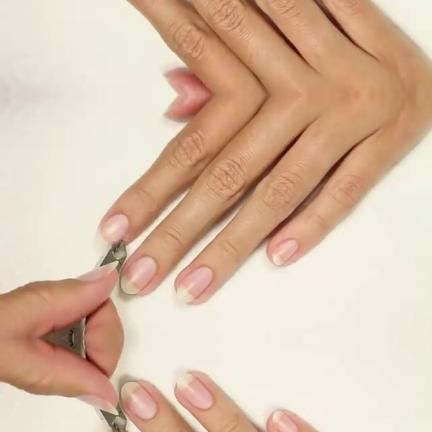Nail: (121, 255, 157, 293), (121, 381, 157, 419), (177, 266, 213, 302), (177, 372, 213, 408), (93, 213, 129, 246), (76, 260, 119, 280), (76, 394, 119, 414), (272, 238, 299, 265), (272, 409, 299, 432), (94, 428, 116, 432)
